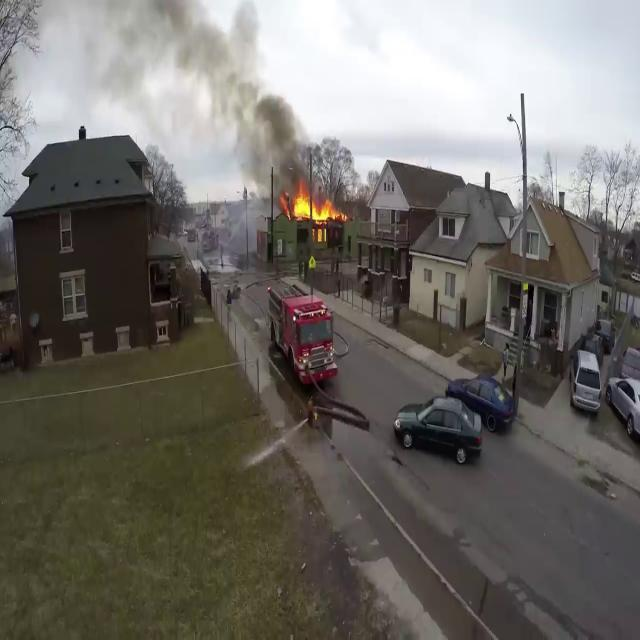Fire: (288, 185, 346, 230)
Smoke: (187, 3, 316, 198)
